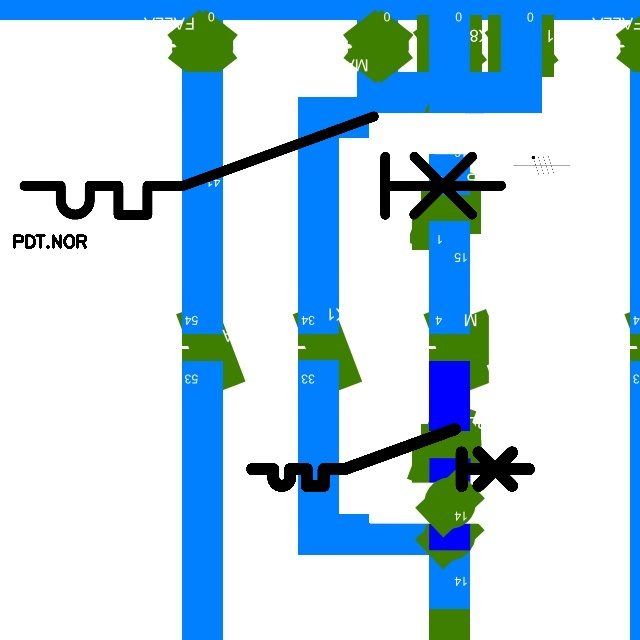interruptor_termomagnetico: (12, 104, 513, 227), (245, 422, 536, 493)
